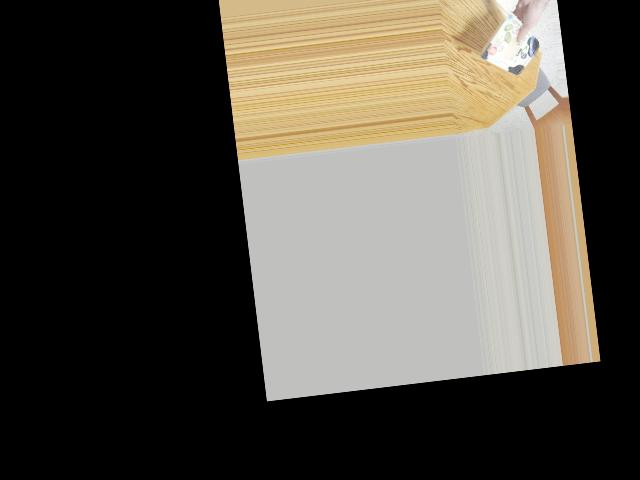cheese: (485, 15, 534, 76)
